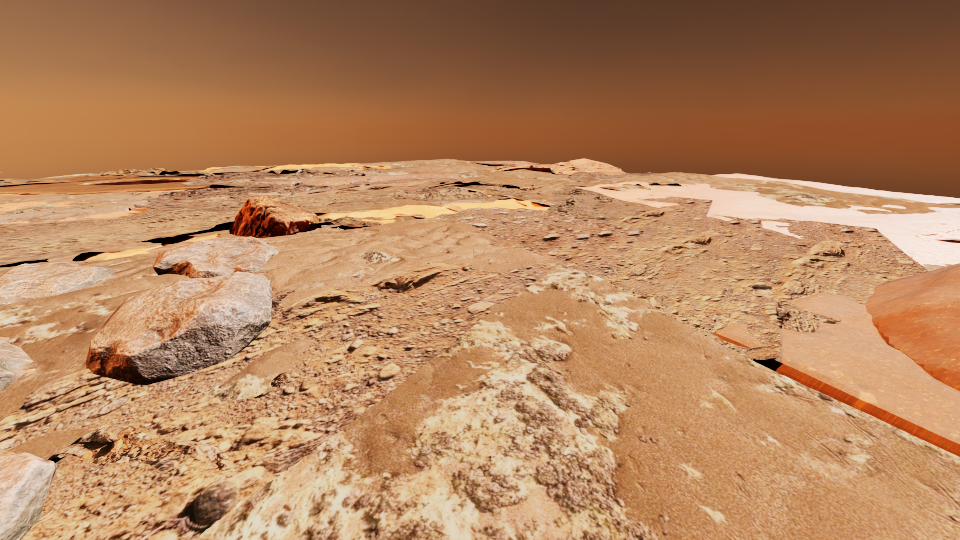bedrock: (0, 216, 923, 539), (1, 180, 214, 207), (0, 507, 118, 539), (214, 190, 313, 225), (580, 203, 672, 233), (0, 209, 143, 217), (534, 210, 584, 223), (916, 223, 959, 236), (246, 382, 270, 389), (923, 216, 959, 220), (0, 184, 27, 189), (121, 177, 146, 180), (0, 194, 16, 197)
hole: (79, 220, 247, 247)
sand: (291, 191, 959, 474), (349, 254, 442, 297), (0, 178, 175, 194), (116, 193, 249, 205), (484, 267, 532, 294), (513, 304, 543, 335), (0, 197, 51, 207), (473, 258, 485, 268), (465, 278, 476, 284), (460, 247, 469, 252), (257, 202, 271, 205)
soil: (0, 355, 722, 539), (0, 202, 371, 278), (772, 447, 959, 539), (872, 214, 959, 227), (14, 190, 102, 196), (0, 179, 69, 182), (15, 379, 26, 385)
